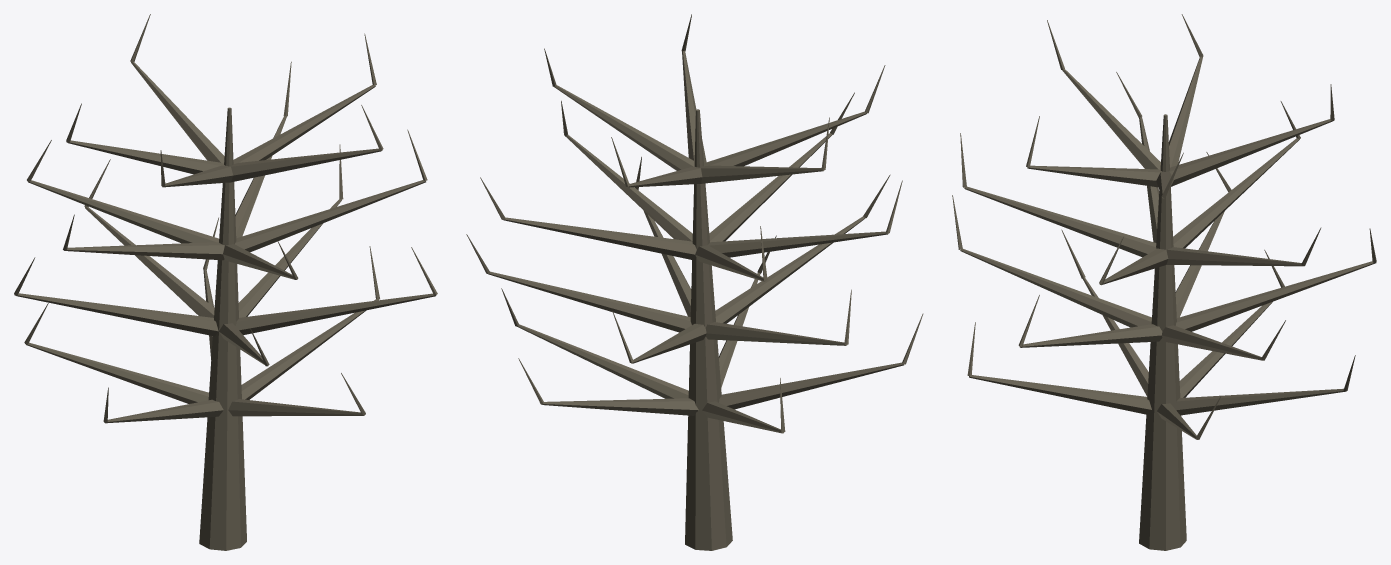
File: BURNTREE.glb
3 views of the same model, side by side, from view 1: azimuth 30°, elevation 25°; view 2: azimuth 150°, elevation 25°; view 3: azimuth 270°, elevation 25° (orthographic).
Parts seen in each view (by area): view 1: Fitted street and landscape details; view 2: Fitted street and landscape details; view 3: Fitted street and landscape details.
Boxes of the visible parts, left/top/right/bottom form: Fitted street and landscape details: left=14, top=14, right=437, bottom=550; Fitted street and landscape details: left=466, top=14, right=923, bottom=550; Fitted street and landscape details: left=952, top=14, right=1376, bottom=550.
Size of the model in its own units: 5.43 by 6.79 by 5.65.
